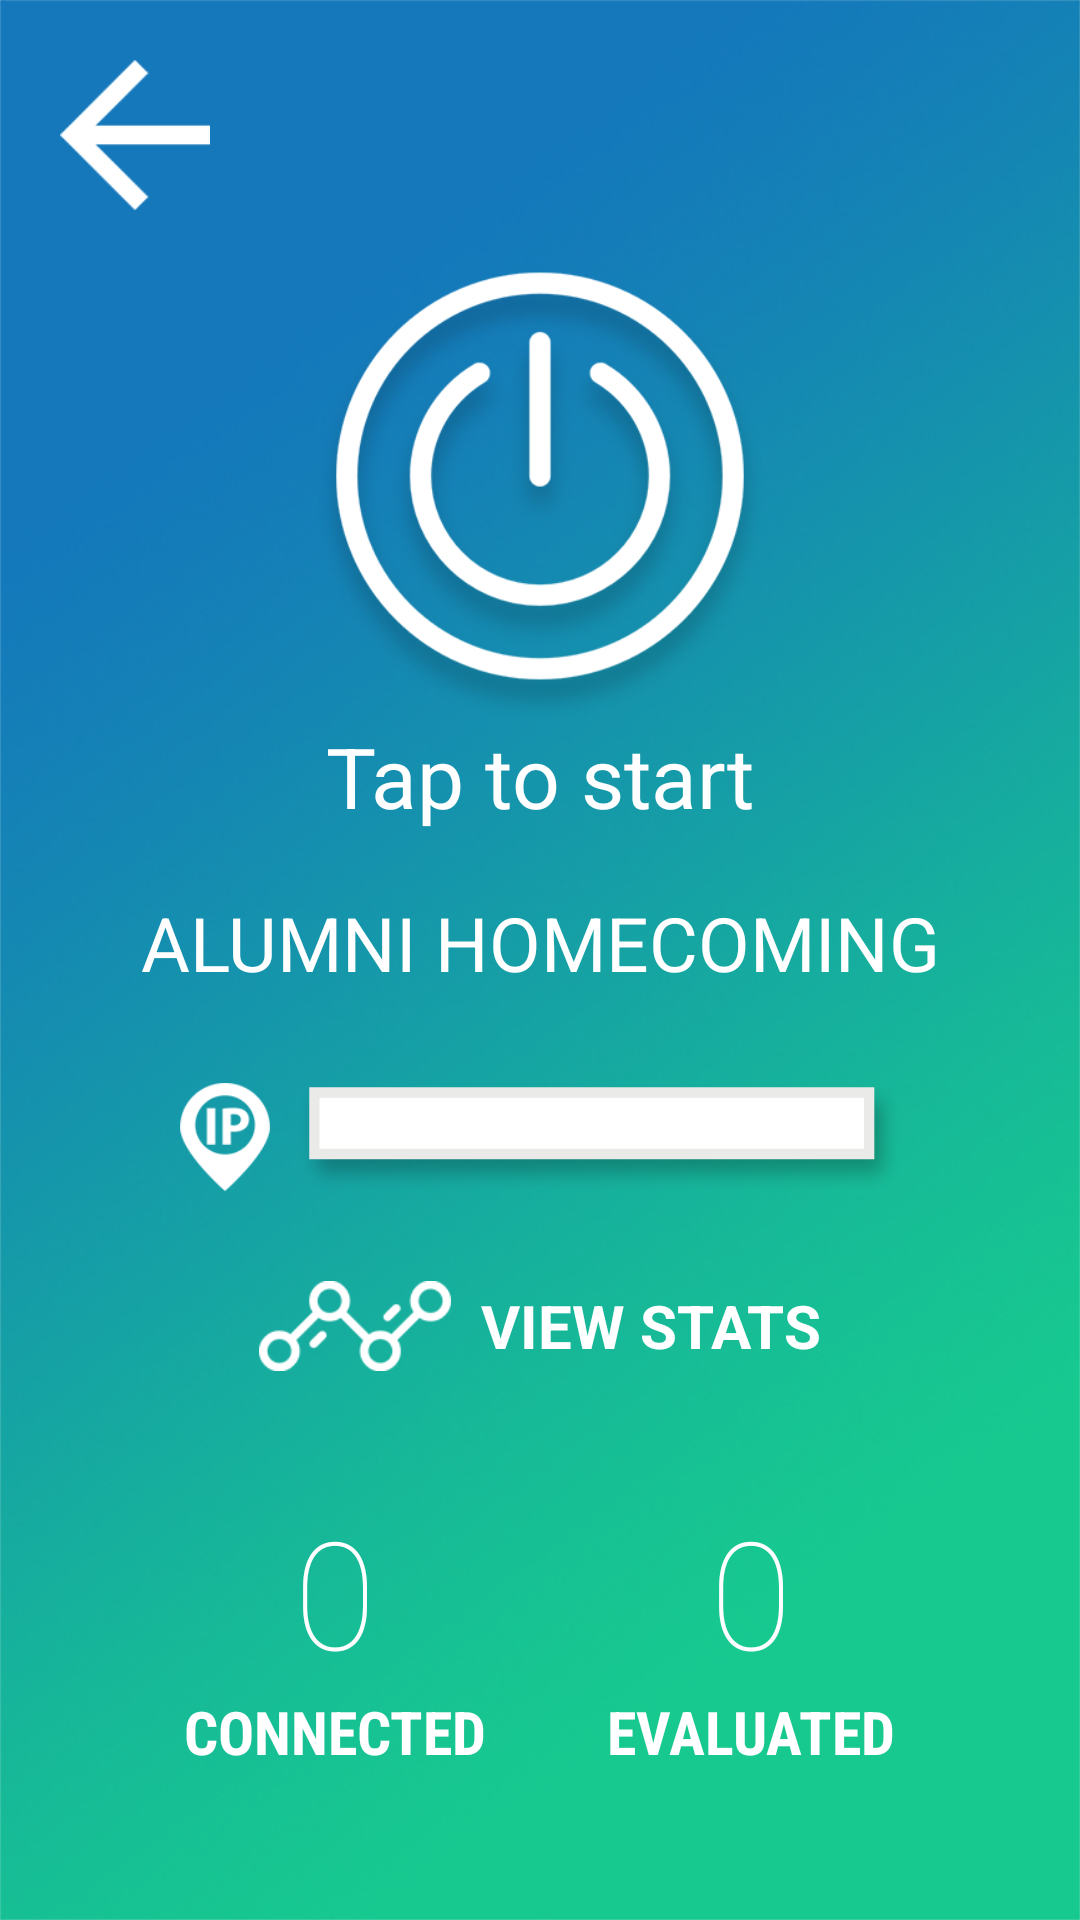

Icon click points for this 1080x1920 phone screenshot, format [x,y]:
Go back: [135,135]
ip address: [225,1137]
